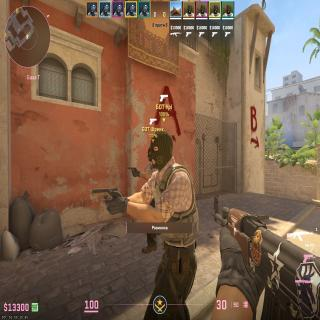T-Body: (140, 129, 198, 320), (141, 148, 159, 252)
T-Head: (150, 129, 173, 169), (146, 148, 150, 161)
